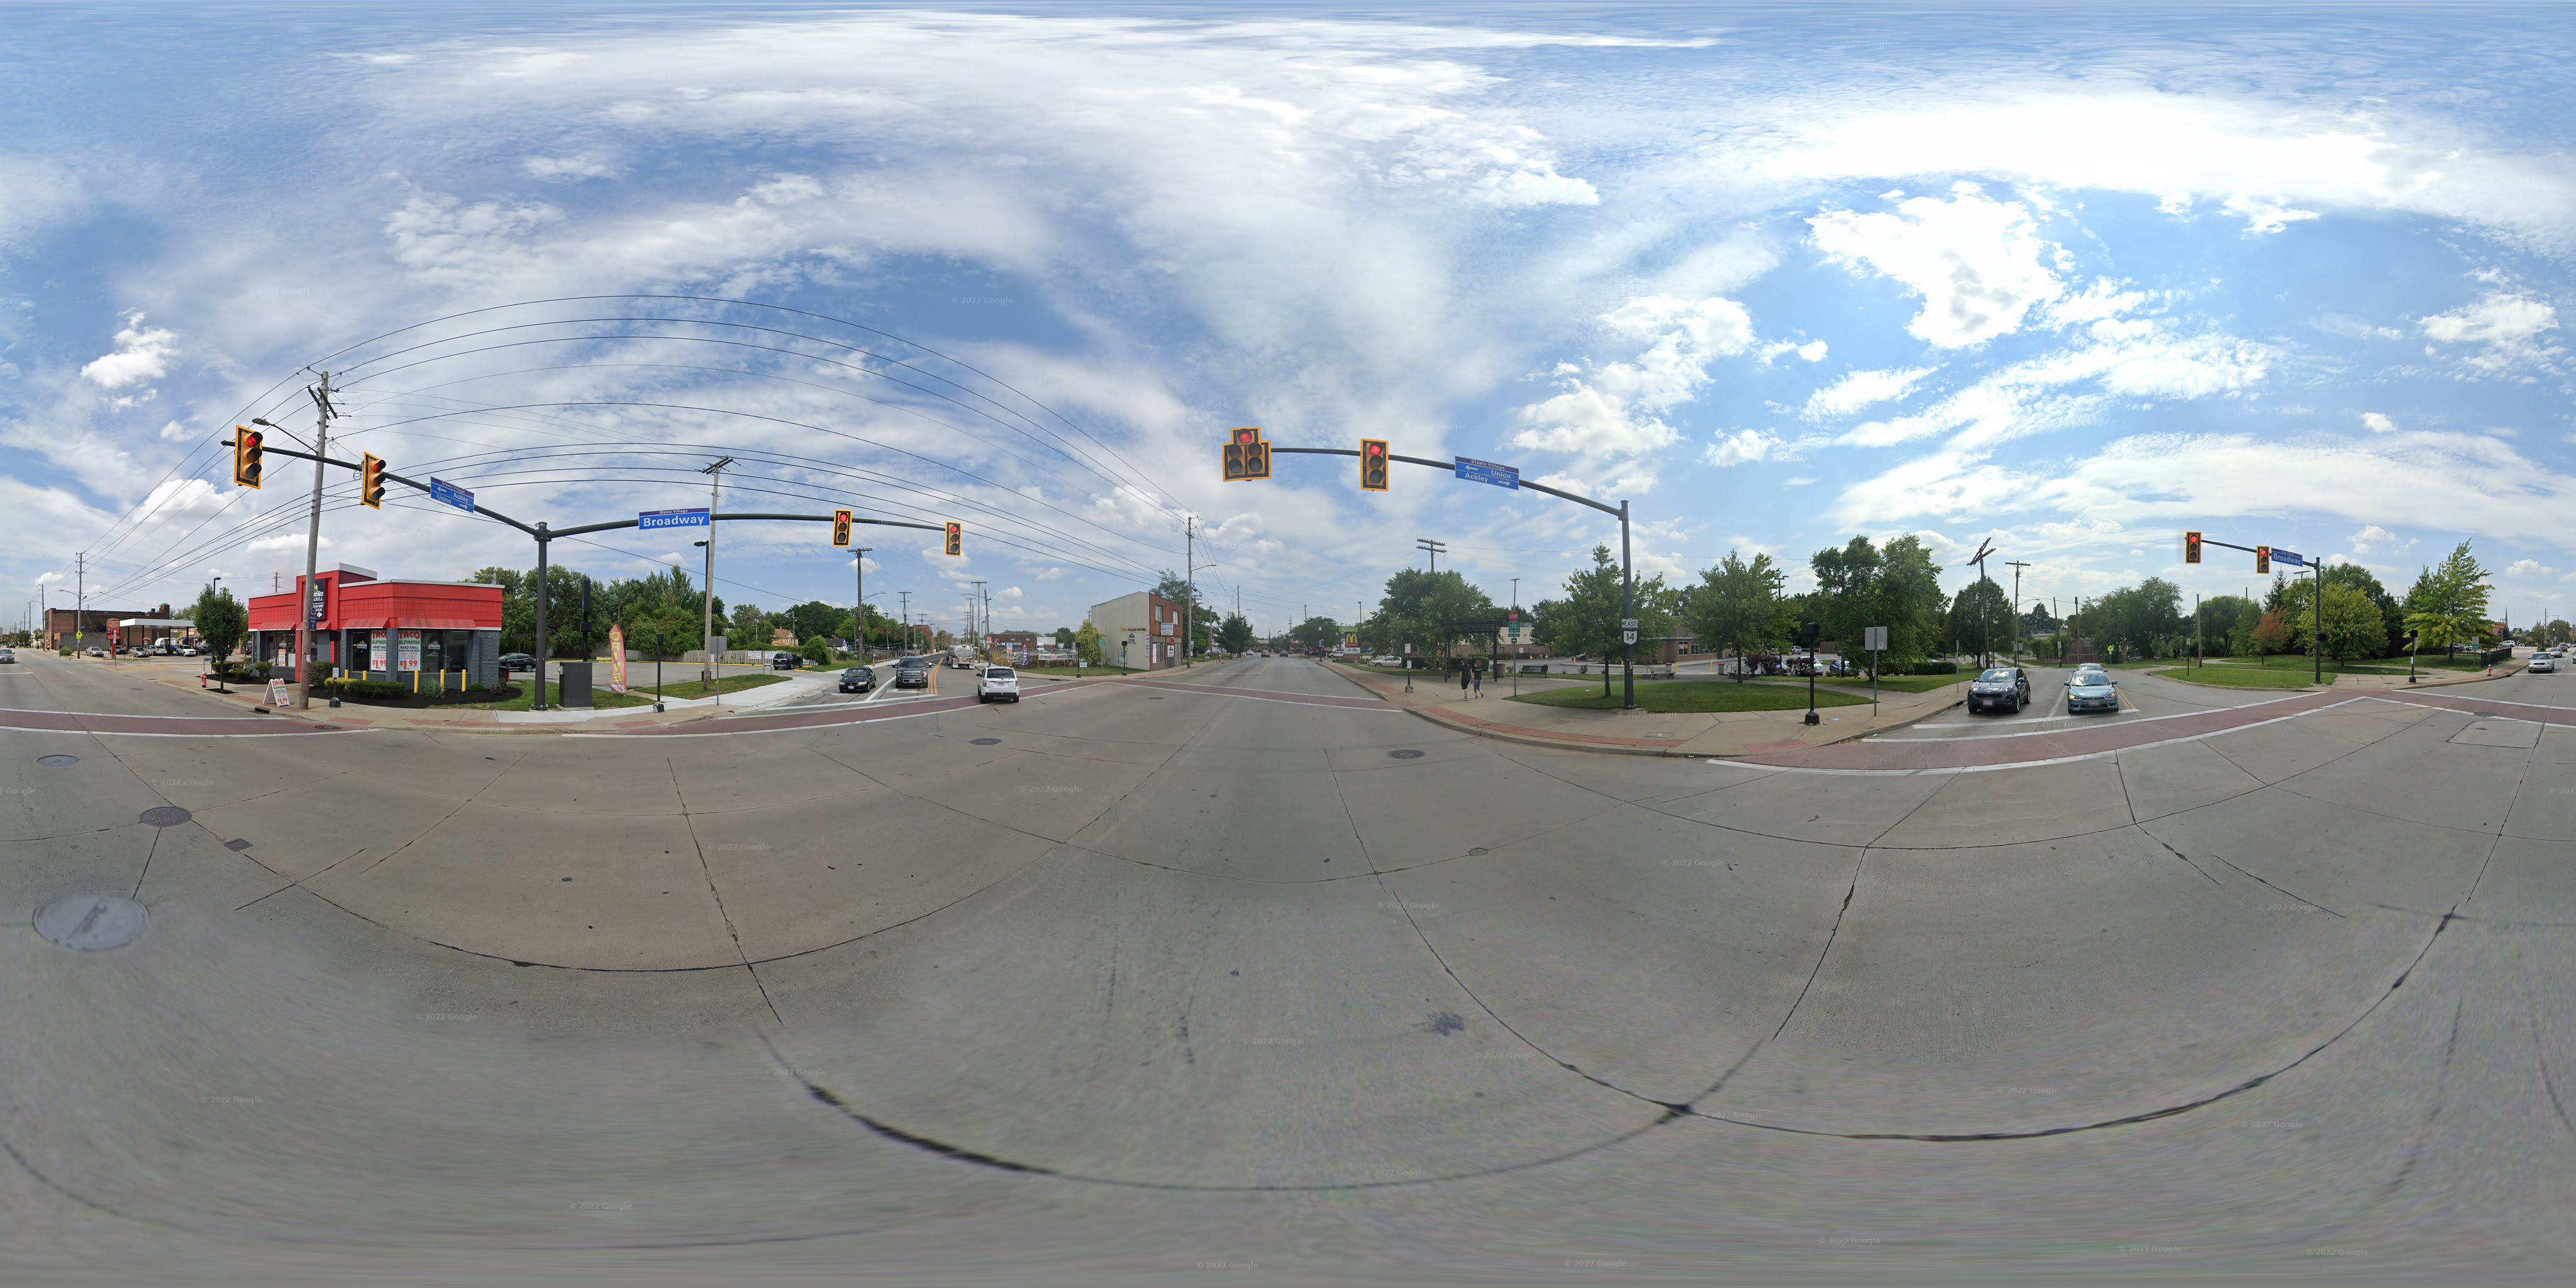Curb Ramp: (1720, 726, 1840, 770), (585, 716, 690, 734), (2325, 674, 2392, 701), (319, 706, 383, 733), (1373, 690, 1426, 711), (1073, 672, 1125, 687)
